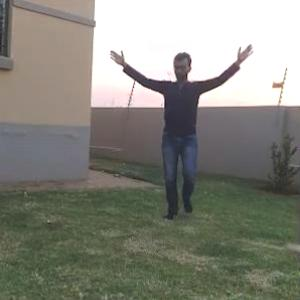takeoff: (111, 11, 288, 239)
